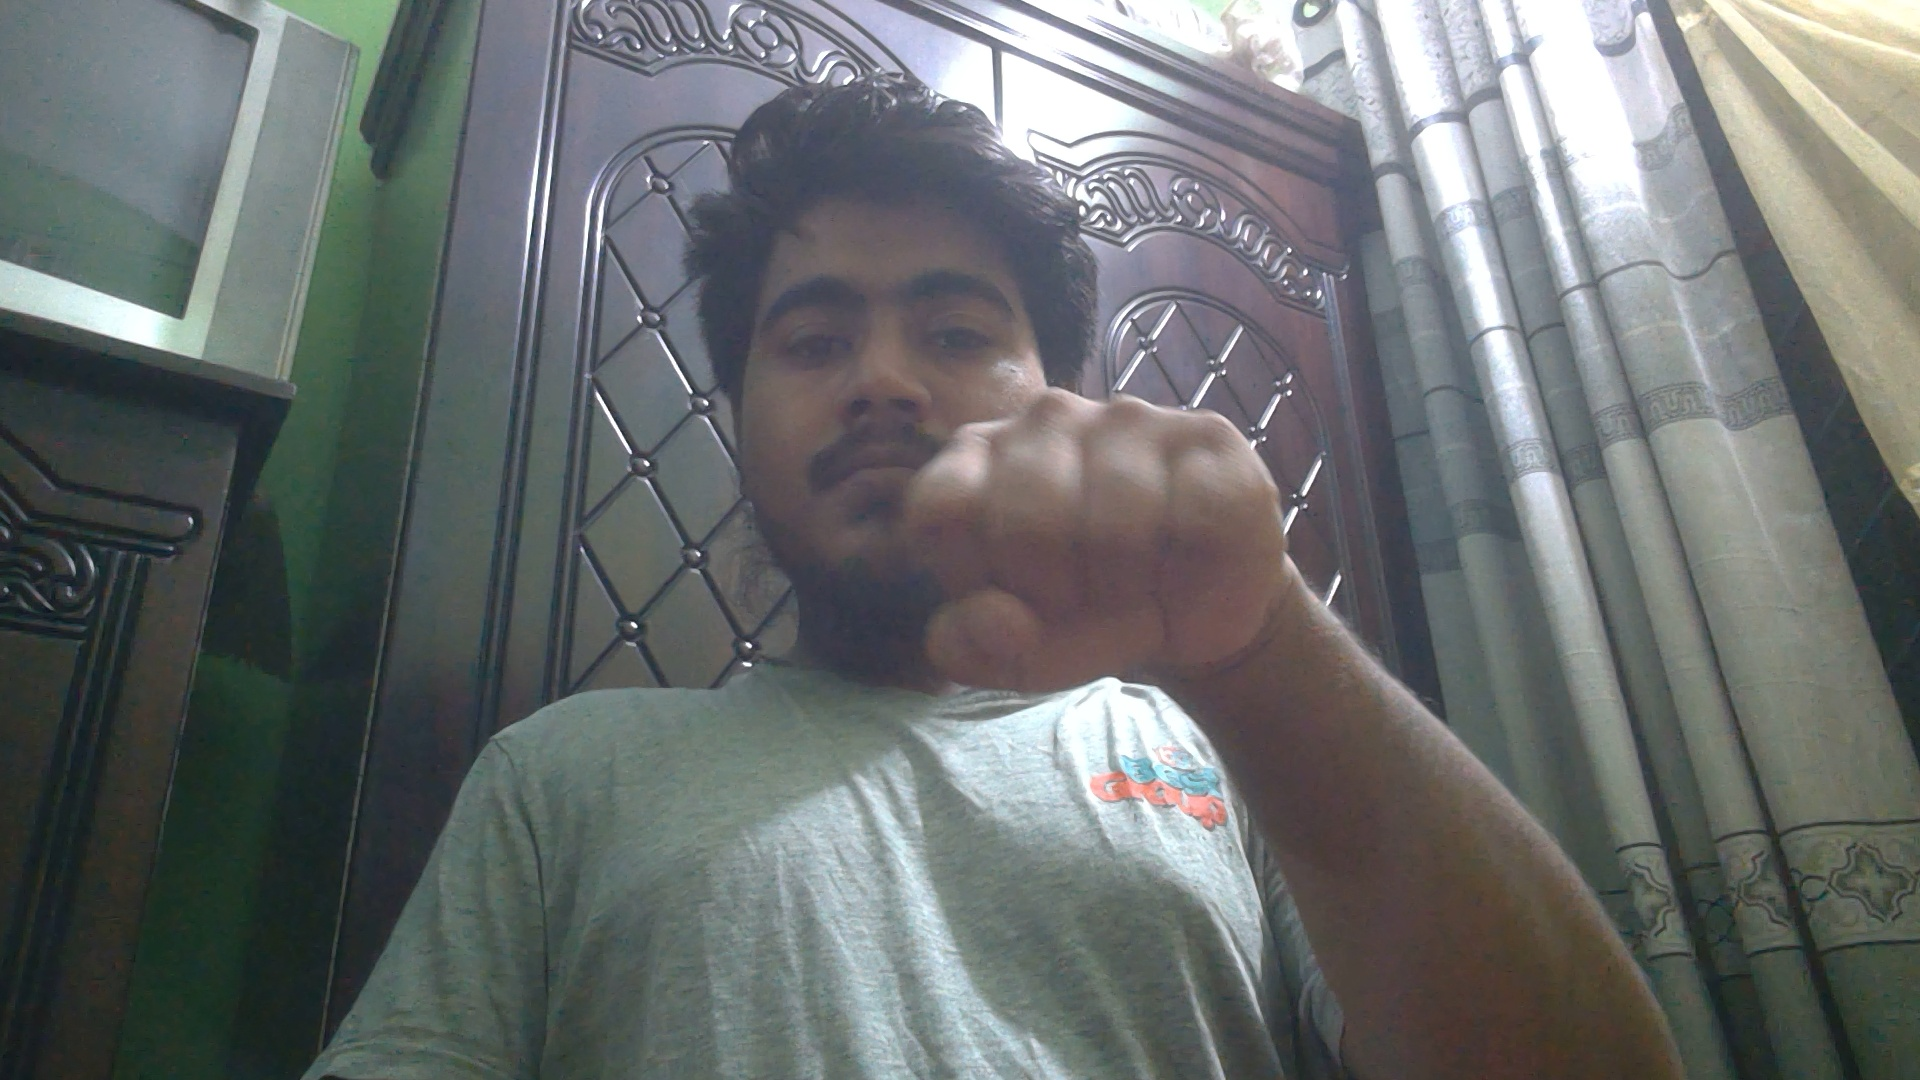yes: (891, 381, 1302, 708)
